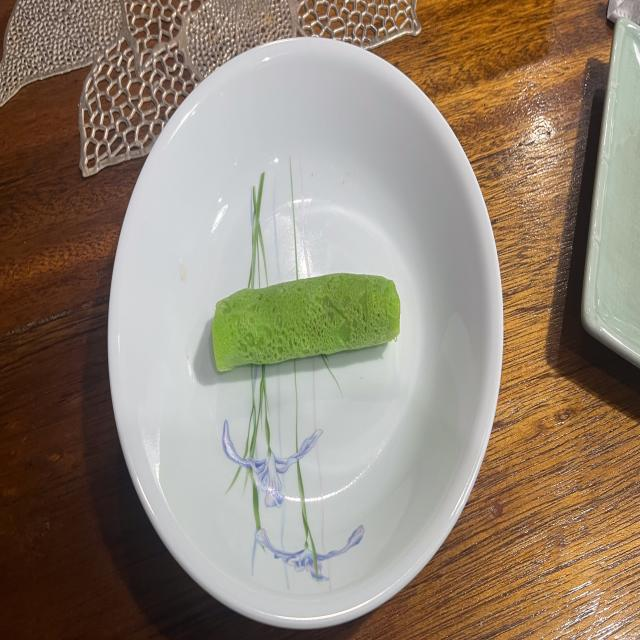Kuih-Ketayap: (212, 273, 400, 371)
